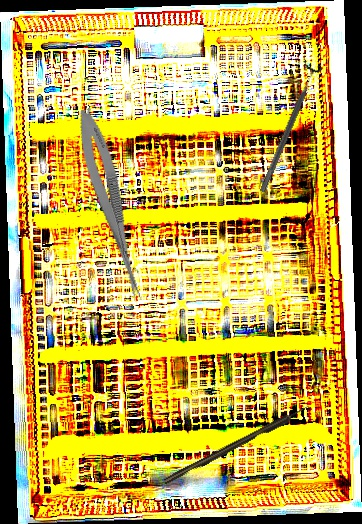Fixation Ring: (252, 59, 324, 196)
Hook Surgical: (162, 403, 312, 486)
Micro Scissor: (70, 105, 155, 305)
